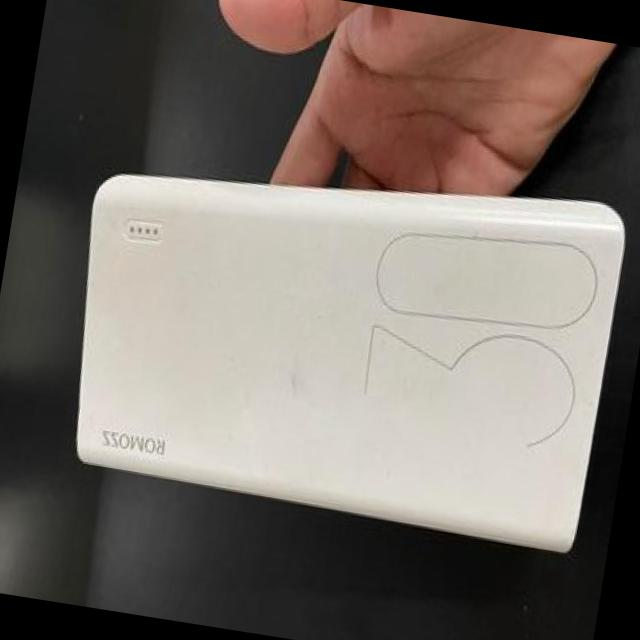portable-charger: (37, 117, 640, 562)
